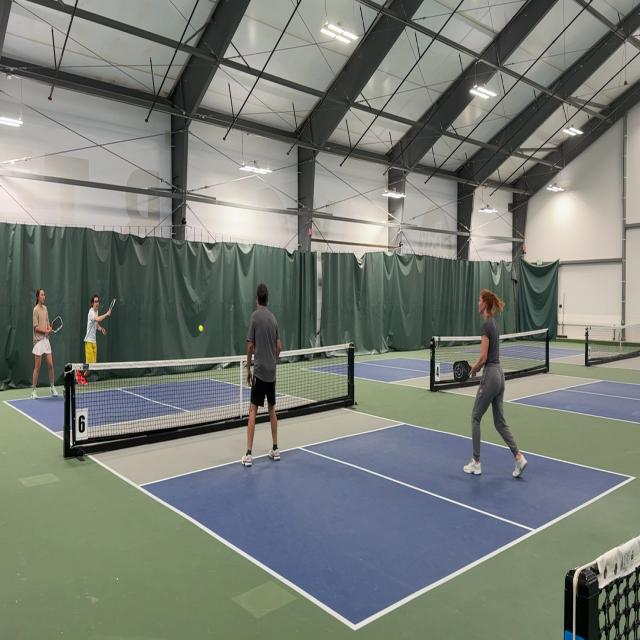ball: (198, 323, 204, 332)
